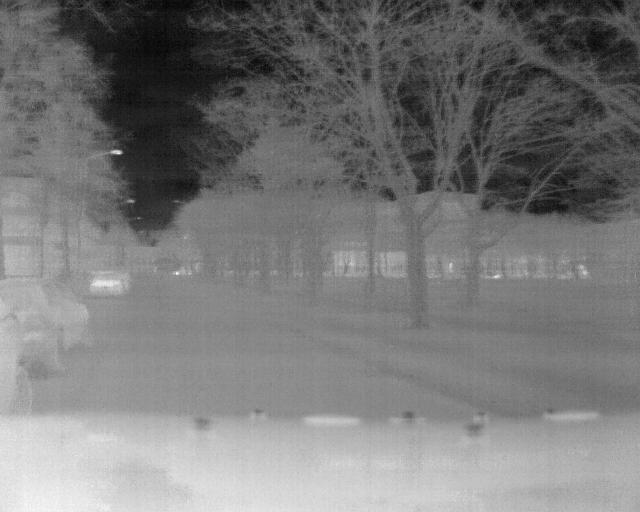car: (1, 277, 92, 368), (87, 269, 125, 298)
